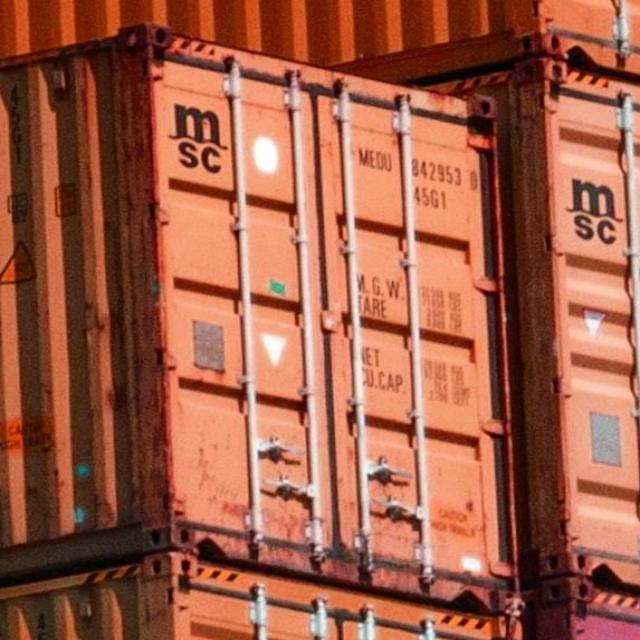ISO: (408, 183, 456, 212)
container_number: (363, 148, 466, 183)
